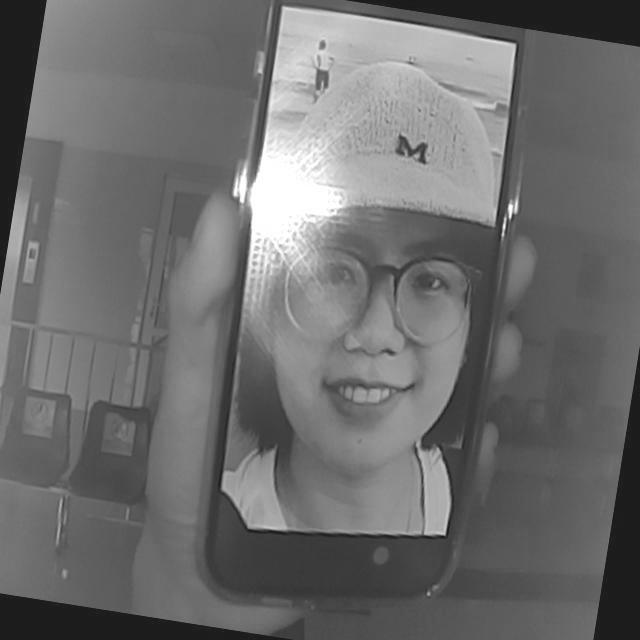fake: (197, 0, 543, 612)
